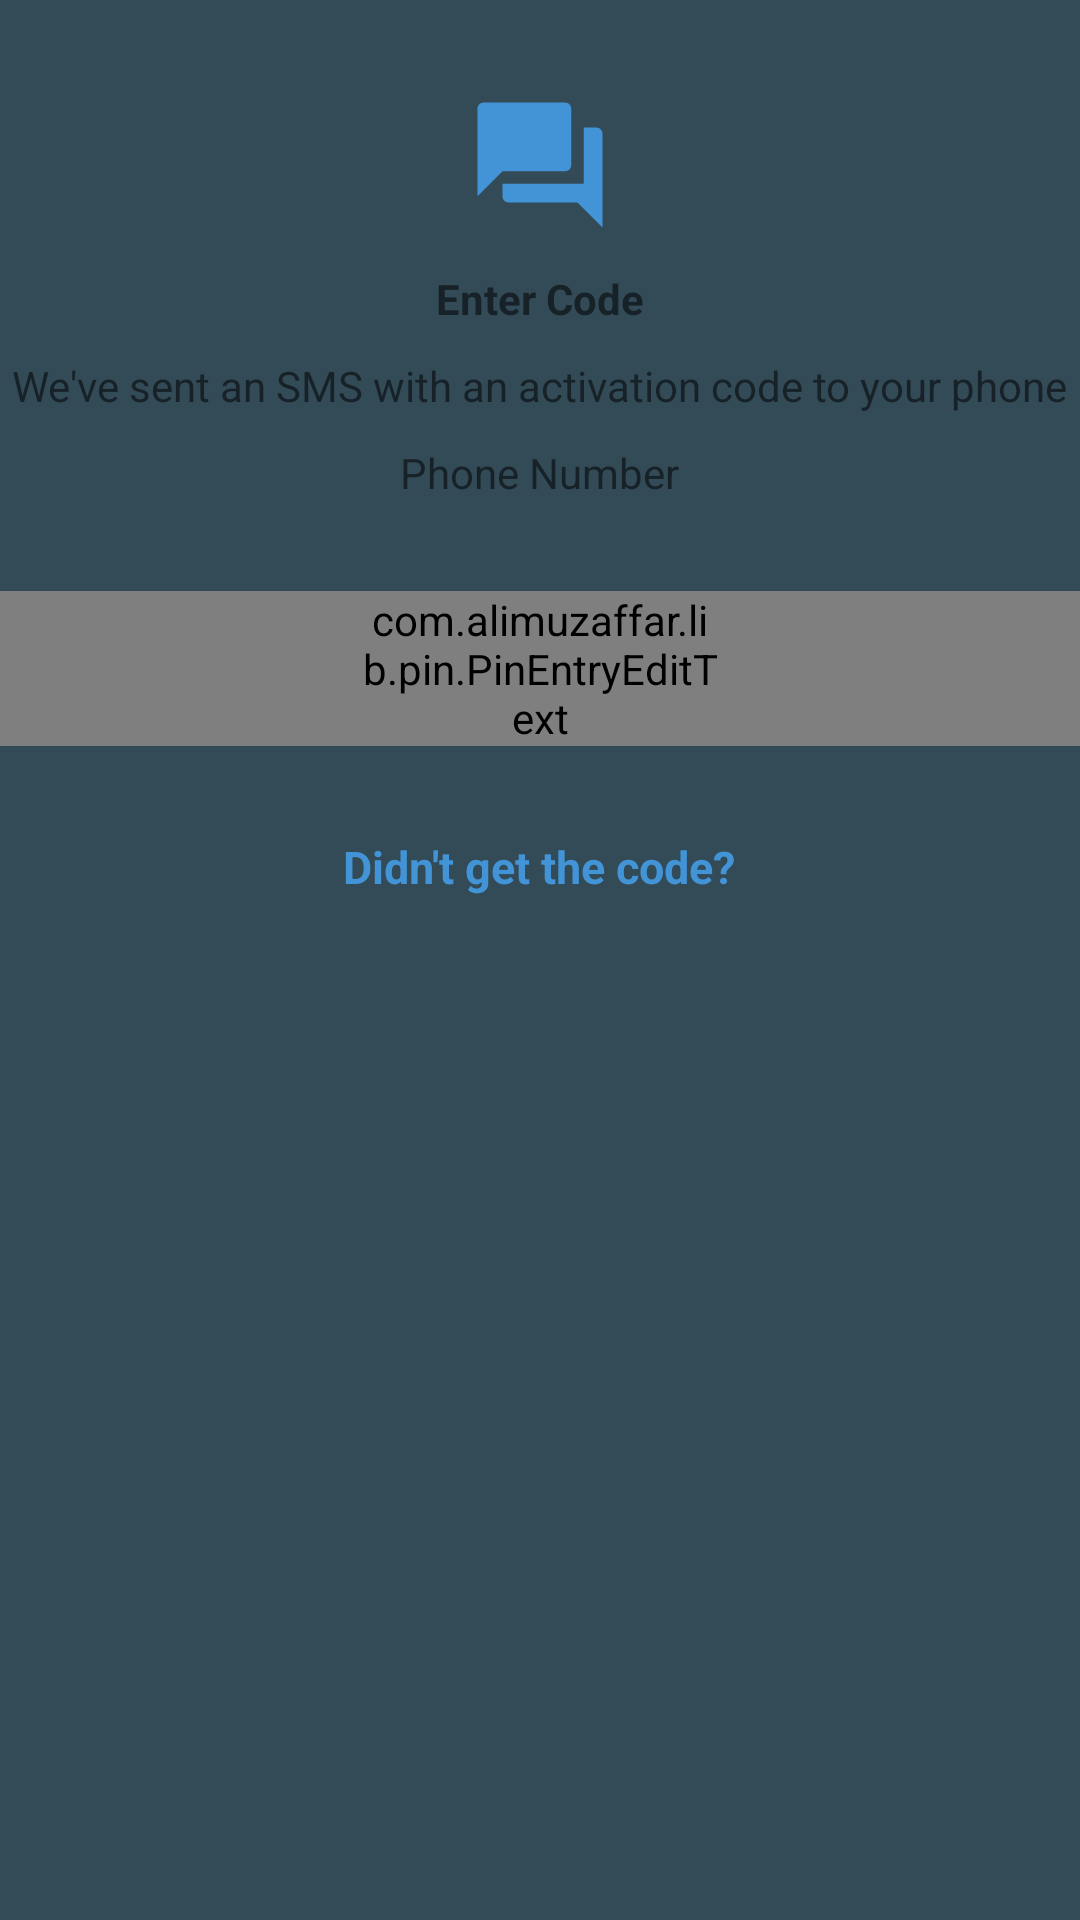

Where icons sit on this 1080x1920 app screen, as (x1, y1, x2, y2):
question answer: (477, 102, 603, 227)
